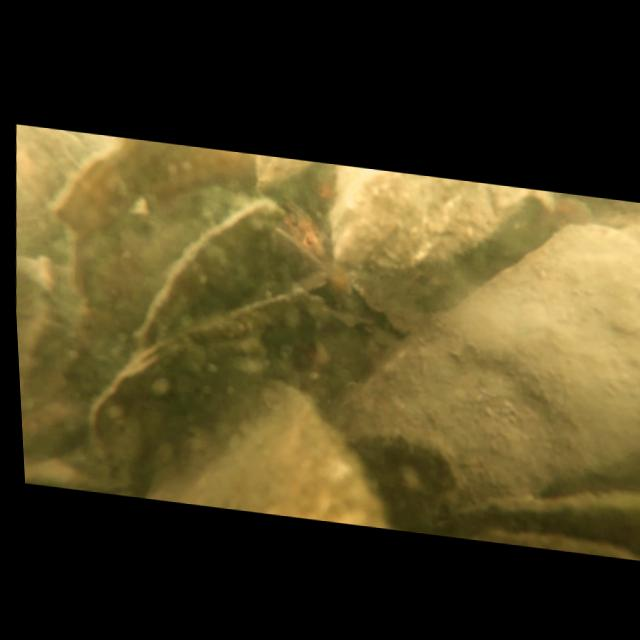Oyster-Indeterminate: (321, 189, 640, 563), (45, 128, 269, 382), (136, 361, 393, 529), (323, 163, 544, 297)
Oyster-Open: (133, 180, 331, 362)
